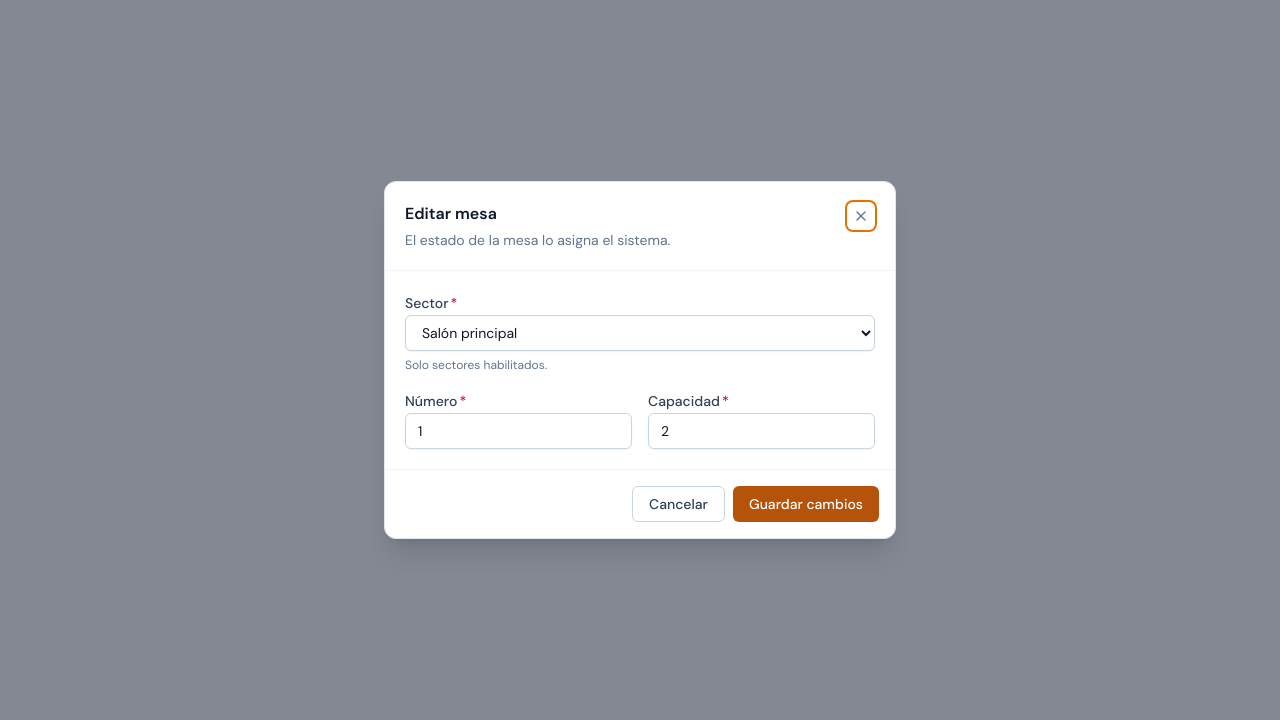
Test case: MesaFormDialog: edición › precarga los datos y guarda con PUT (CA 1 de #39)
The image size is (1280, 720).
Expected: the heading "Editar mesa" is shown, [405,203,497,224]
Expected: the field labelled "Capacidad*" holds "2", [648,413,875,449]
Step 1. Replace the text in the field labelled "Número*" with "7" → (518, 431), box [405,413,632,449]
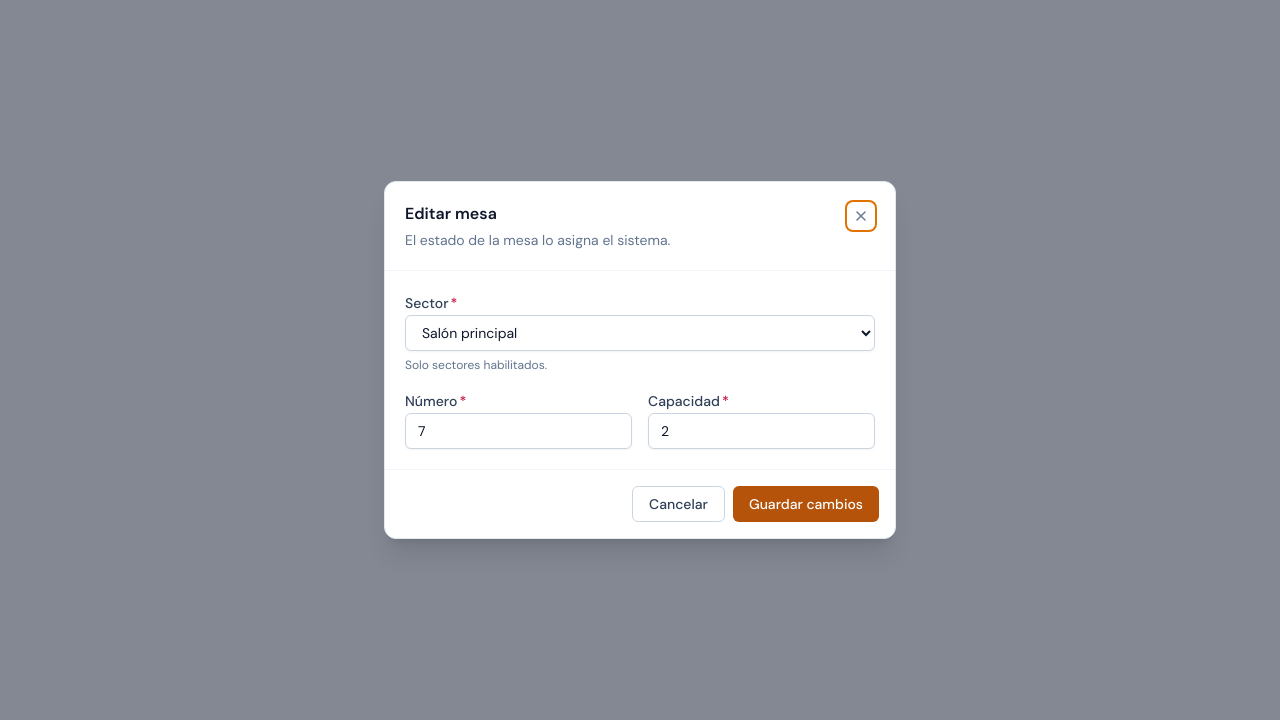
Step 2. Click the button "Guardar cambios" → (806, 504), box [733,486,879,522]
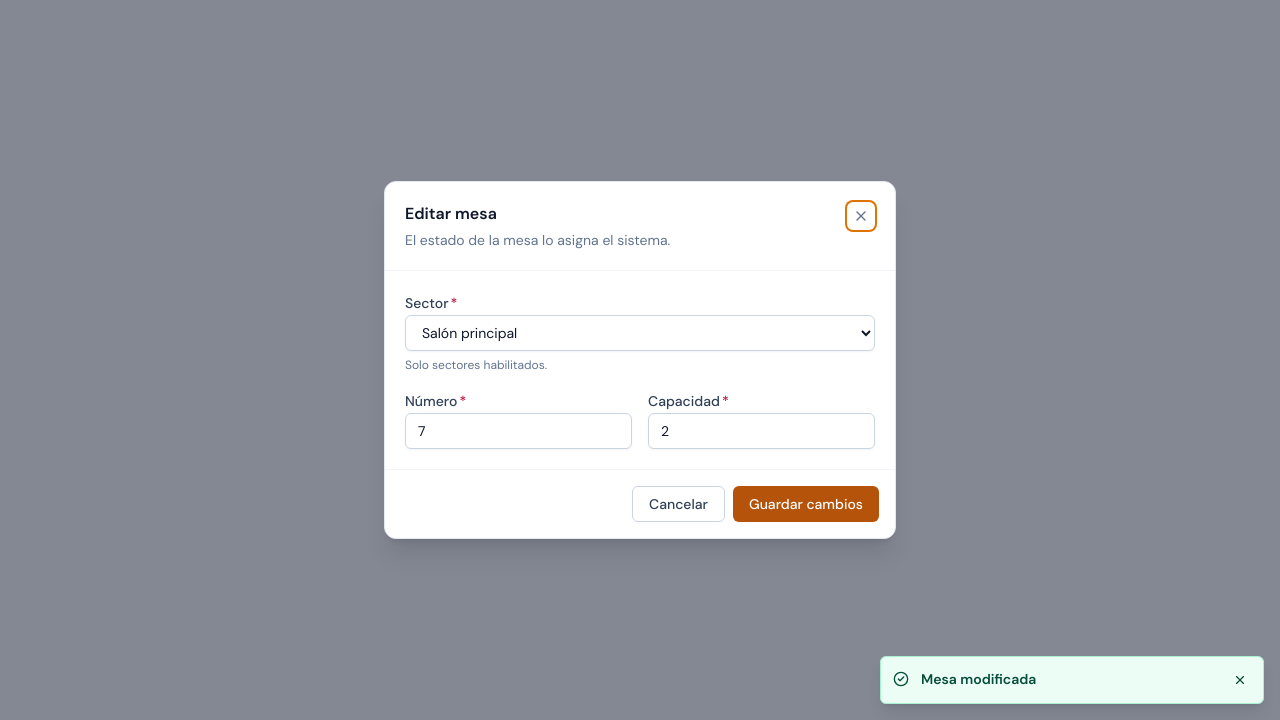
Expected: the text "Mesa modificada" is shown, [921,670,1036,688]
